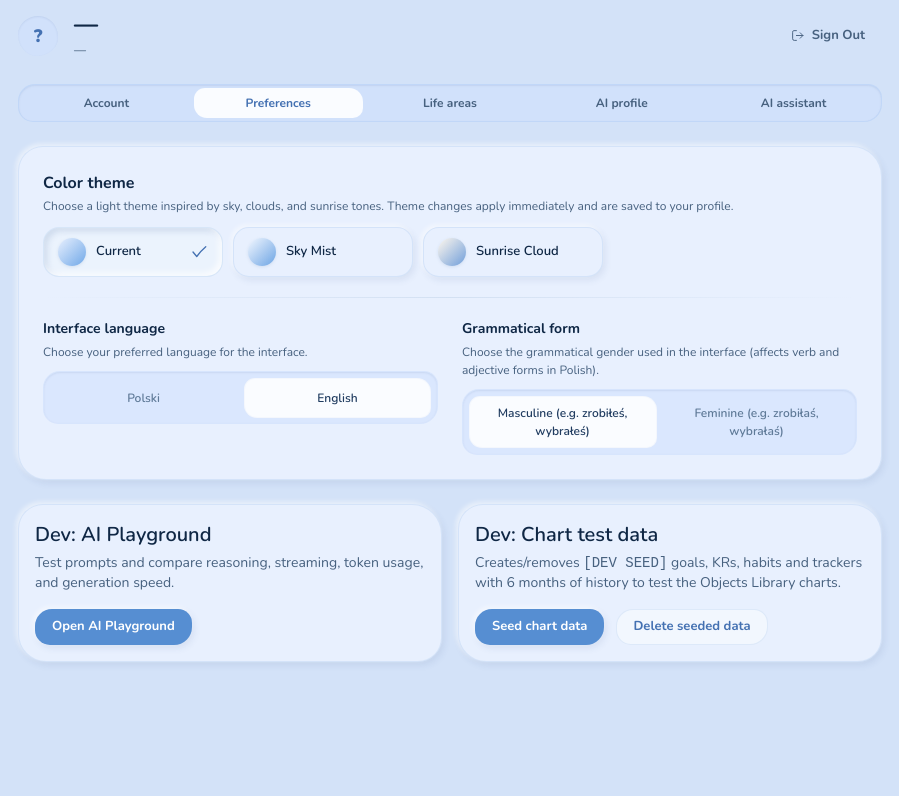
Test: ProfileView (shell) › switches to the Account tab and shows account fields + security actions
What coordinates should you click on to do the following:
click the tab "Account"
I would click on:
 (106, 103)
Its box is [22, 88, 191, 118].
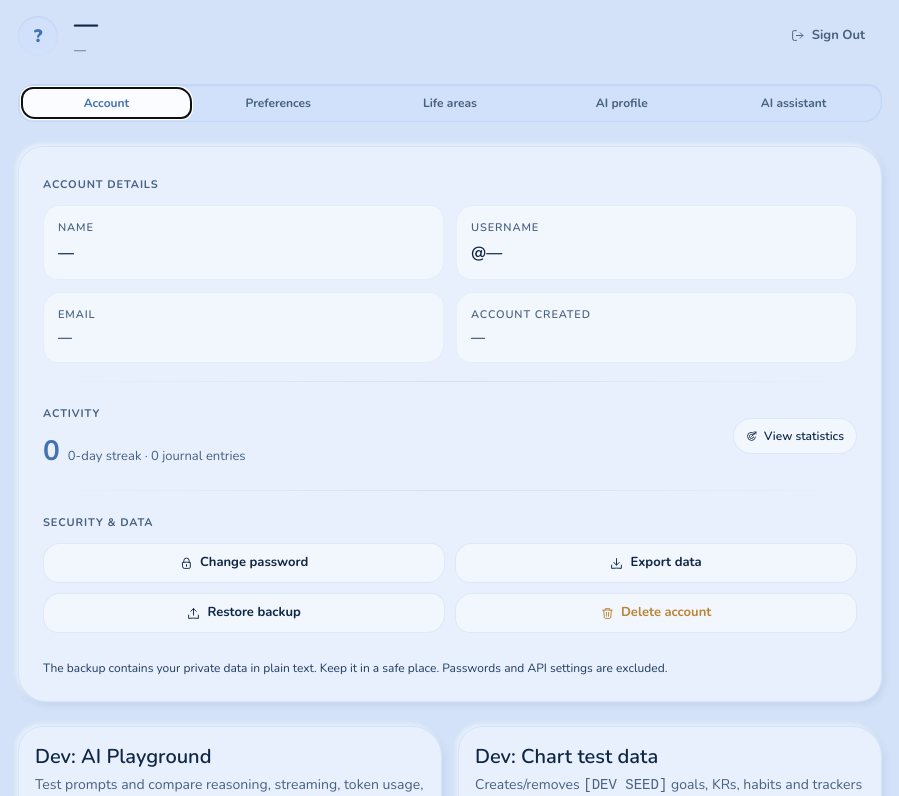
Now the text "Account details" is shown, box [43, 177, 159, 192]
Now the text "Activity" is shown, box [43, 406, 100, 421]
Now the text "Security & data" is shown, box [43, 515, 153, 530]
